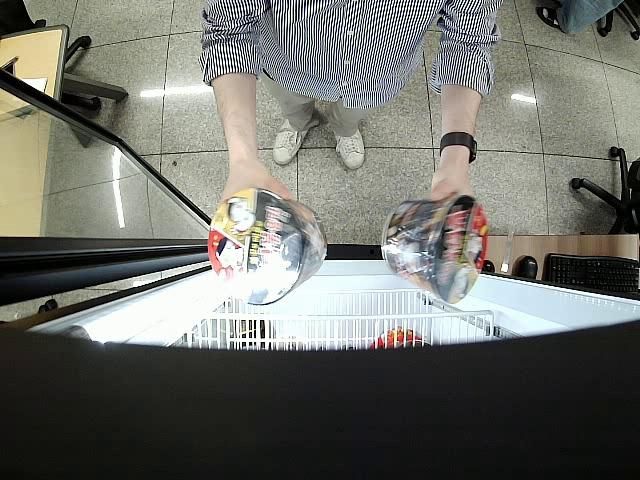00_hand: (216, 170, 293, 218), (423, 168, 472, 207)
07_buldak_L: (207, 188, 326, 300), (382, 196, 490, 303)
